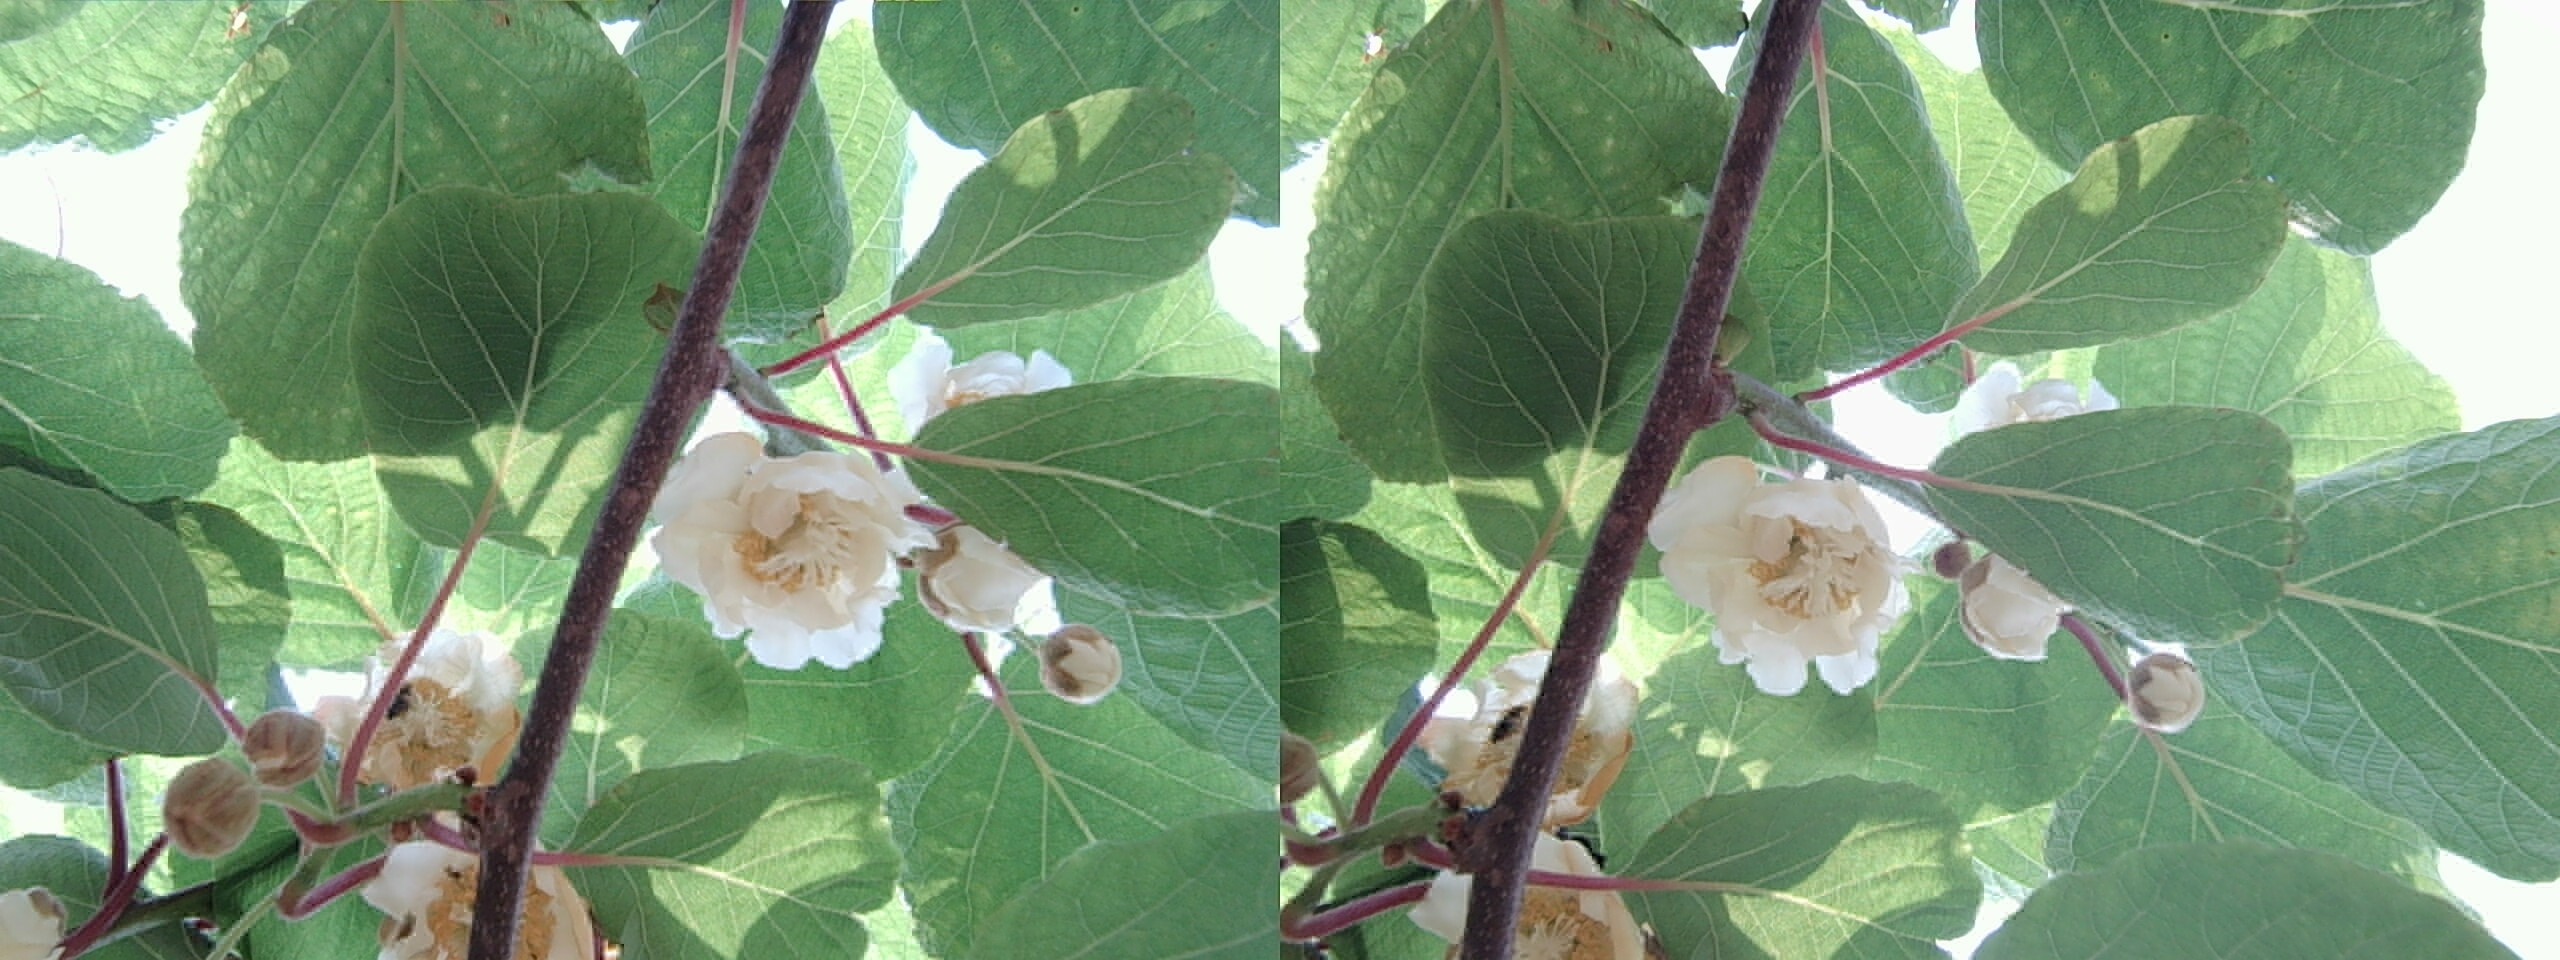flower: (656, 441, 926, 668), (1665, 464, 1909, 691)
